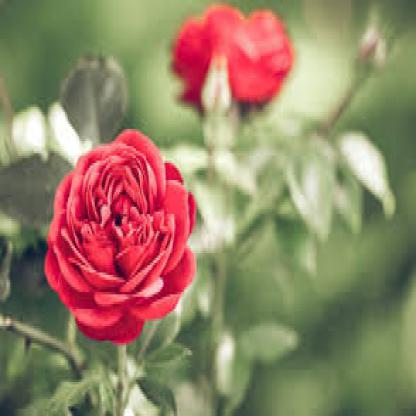Rose-Mawar: (41, 118, 195, 349)
